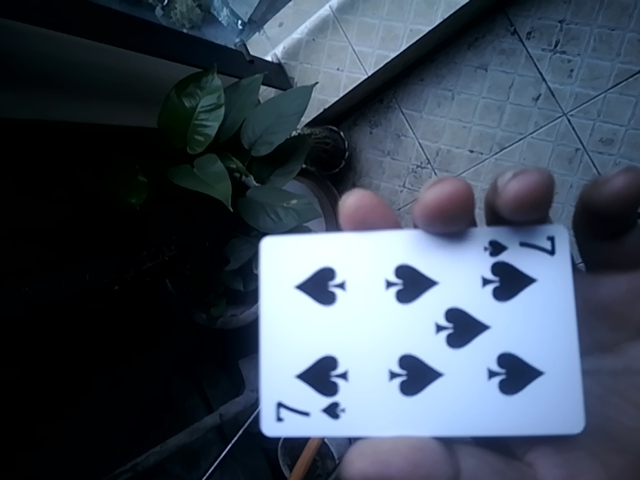ht 7: (252, 215, 589, 442)
